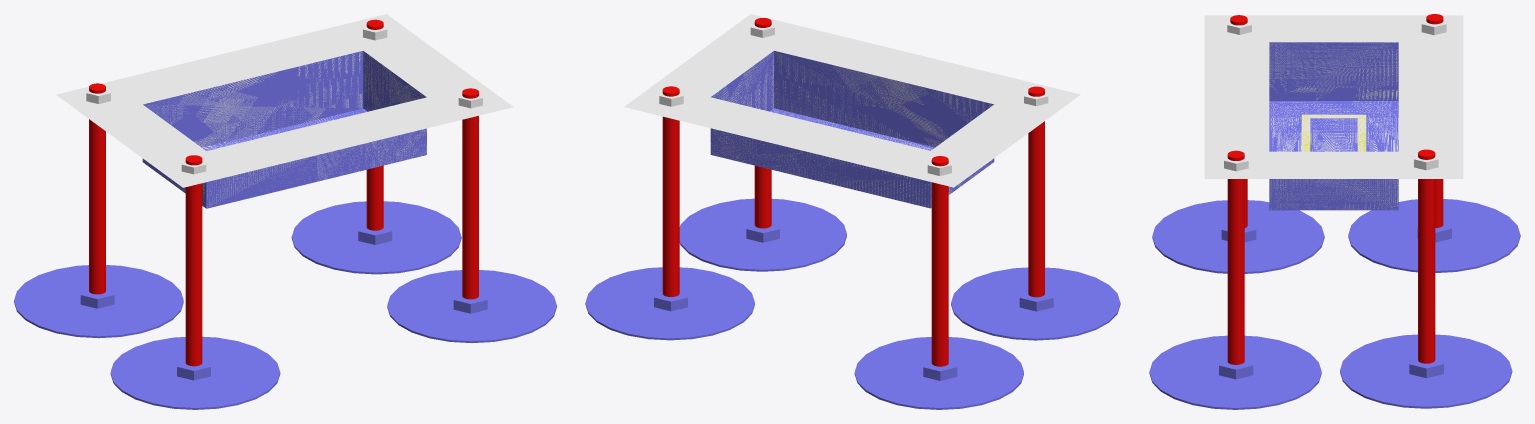
The model's file is o_Bin.dae.
3 views of the same model, side by side, from view 1: azimuth 30°, elevation 25°; view 2: azimuth 150°, elevation 25°; view 3: azimuth 270°, elevation 25° (orthographic).
Parts seen in each view (by area): view 1: SketchUp_003, SketchUp, group_3_002, group_0_002, group_2_002, group_1_002, group_1, group_0, group_2, group_3, group_3_001, group_0_001 (+2 smaller); view 2: SketchUp_003, SketchUp, group_1_002, group_2_002, group_3_002, group_0_002, group_2, group_3, group_1, group_0, group_2_001, group_1_001 (+2 smaller); view 3: SketchUp_003, SketchUp, group_0_002, group_3_002, group_1_002, group_2_002, group_0, group_3, SketchUp_001, SketchUp_002, group_0_001, group_3_001 (+3 smaller).
Boxes of the visible parts, x1,y1,x2,y2 form: SketchUp_003: [56, 14, 513, 187]; SketchUp: [142, 51, 426, 208]; group_3_002: [291, 201, 461, 274]; group_0_002: [387, 270, 556, 342]; group_2_002: [14, 265, 183, 338]; group_1_002: [110, 336, 280, 409]; group_1: [185, 155, 202, 366]; group_0: [462, 88, 478, 299]; group_2: [89, 83, 105, 294]; group_3: [366, 19, 383, 230]; group_3_001: [358, 221, 392, 244]; group_0_001: [453, 289, 487, 313]; SketchUp_003: [624, 14, 1080, 187]; SketchUp: [710, 50, 994, 208]; group_1_002: [951, 267, 1120, 340]; group_2_002: [854, 337, 1023, 409]; group_3_002: [585, 267, 754, 340]; group_0_002: [679, 198, 846, 271]; group_2: [931, 156, 948, 366]; group_3: [662, 86, 679, 296]; group_1: [1028, 86, 1044, 297]; group_0: [754, 18, 771, 228]; group_2_001: [923, 357, 957, 380]; group_1_001: [1019, 287, 1053, 311]; SketchUp_003: [1204, 15, 1463, 178]; SketchUp: [1269, 42, 1398, 210]; group_0_002: [1149, 335, 1321, 409]; group_3_002: [1340, 334, 1512, 408]; group_1_002: [1152, 200, 1324, 273]; group_2_002: [1348, 199, 1520, 272]; group_0: [1227, 150, 1244, 364]; group_3: [1418, 149, 1435, 363]; SketchUp_001: [1310, 118, 1357, 151]; SketchUp_002: [1301, 114, 1366, 151]; group_0_001: [1219, 355, 1253, 379]; group_3_001: [1409, 354, 1443, 378].
Bounding box in the file's own units: 1.15 × 0.8615 × 0.5632.
